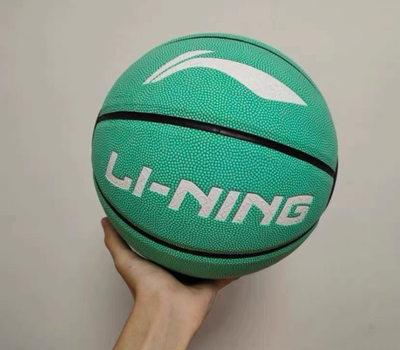ball: (89, 30, 340, 282)
